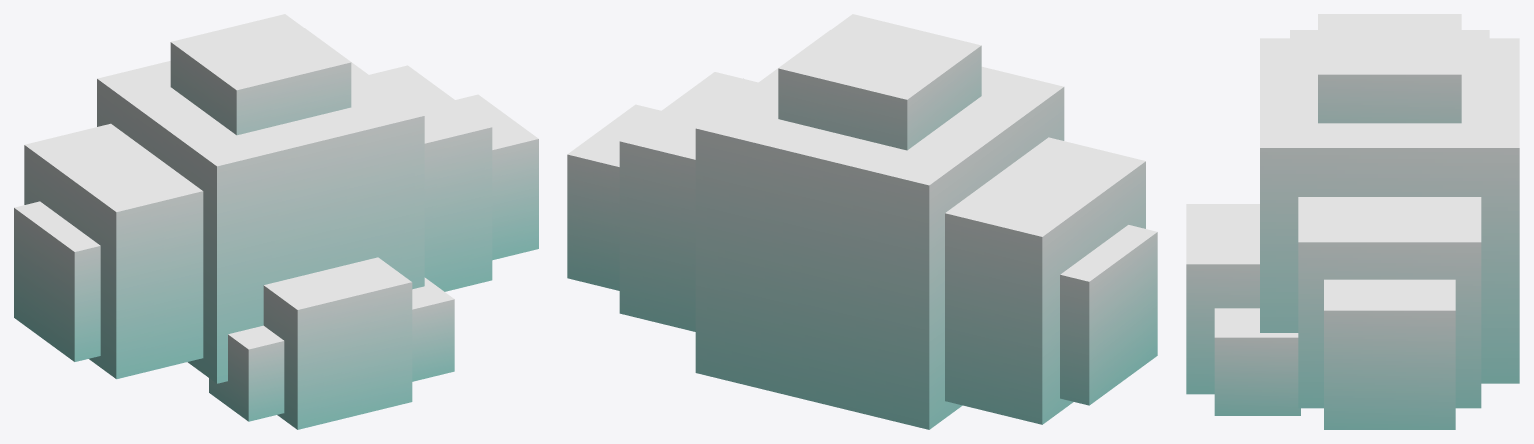
Rendered from Cloud2-Bc1OX22G.glb.
3 renders of one model, left to right at view 1: azimuth 30°, elevation 25°; view 2: azimuth 150°, elevation 25°; view 3: azimuth 270°, elevation 25°, orthographic. The views are drawn at different scales.
Visible parts, largest first — view 1: Cloud2; view 2: Cloud2; view 3: Cloud2.
Part boxes in pixels (left/top/right/bottom): Cloud2: left=14, top=14, right=538, bottom=429; Cloud2: left=567, top=14, right=1157, bottom=429; Cloud2: left=1186, top=14, right=1519, bottom=429.
Size of the model in its own units: 8.8 by 5.35 by 5.06.
1 material, 1 textured.
